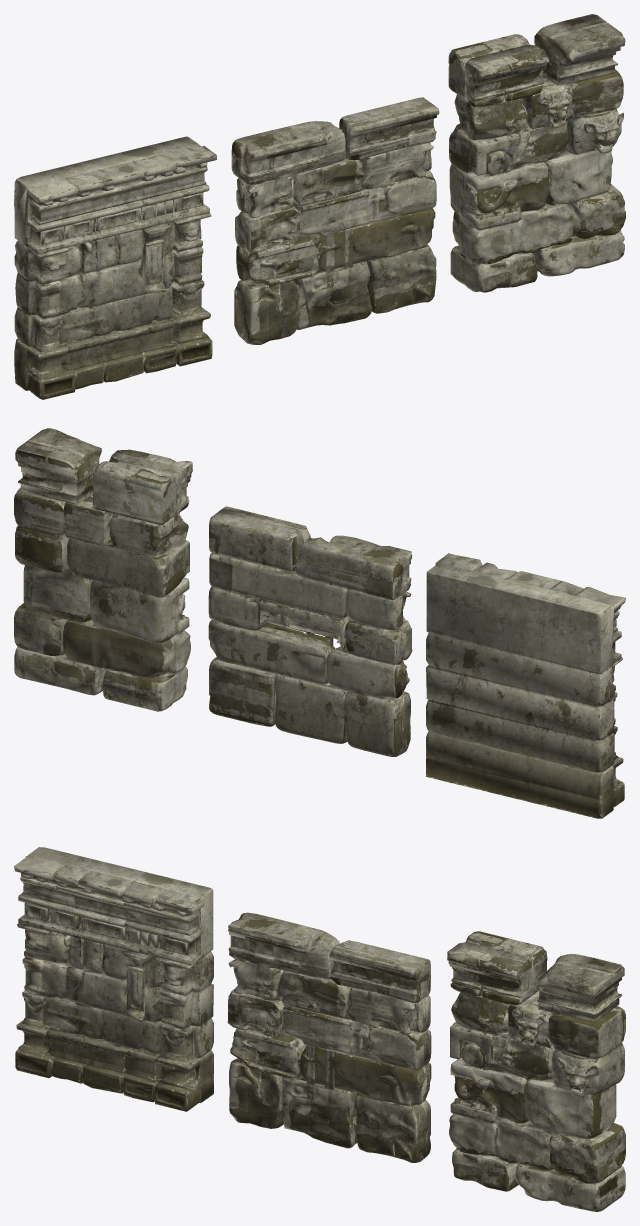
The model's file is ancient_stone_wall.glb.
3 renders of one model, top to bottom at view 1: azimuth 30°, elevation 25°; view 2: azimuth 150°, elevation 25°; view 3: azimuth 330°, elevation 25°, orthographic.
Visible parts, largest first — view 1: mesh_rep_0_ori_repair.002, mesh_rep_0_ori_repair, mesh_rep_0_ori_repair.001; view 2: mesh_rep_0_ori_repair.002, mesh_rep_0_ori_repair, mesh_rep_0_ori_repair.001; view 3: mesh_rep_0_ori_repair.002, mesh_rep_0_ori_repair, mesh_rep_0_ori_repair.001.
Part boxes in pixels (x1,y1,x2,y2): mesh_rep_0_ori_repair.002: (14, 136, 216, 399); mesh_rep_0_ori_repair: (448, 14, 625, 292); mesh_rep_0_ori_repair.001: (231, 97, 439, 344); mesh_rep_0_ori_repair.002: (426, 553, 625, 818); mesh_rep_0_ori_repair: (14, 428, 192, 711); mesh_rep_0_ori_repair.001: (208, 506, 412, 756); mesh_rep_0_ori_repair.002: (14, 847, 213, 1111); mesh_rep_0_ori_repair: (447, 931, 625, 1211); mesh_rep_0_ori_repair.001: (227, 912, 431, 1162).
Size of the model in its own units: 2.64 by 0.9782 by 0.2726.
1 material, 1 textured.
